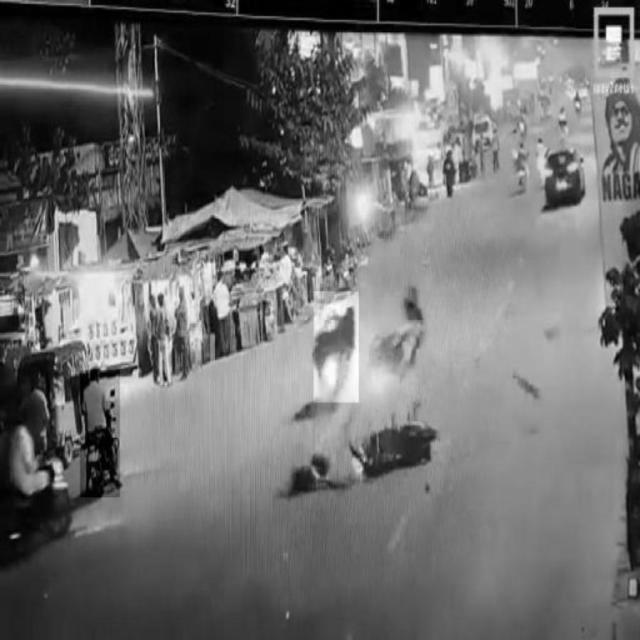vehicle: (23, 341, 99, 465), (81, 370, 121, 498), (315, 292, 360, 403), (544, 154, 581, 206)
